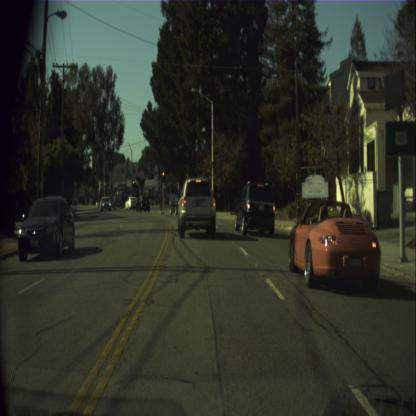Red: (161, 170, 165, 182), (104, 182, 106, 190), (132, 180, 134, 187)
